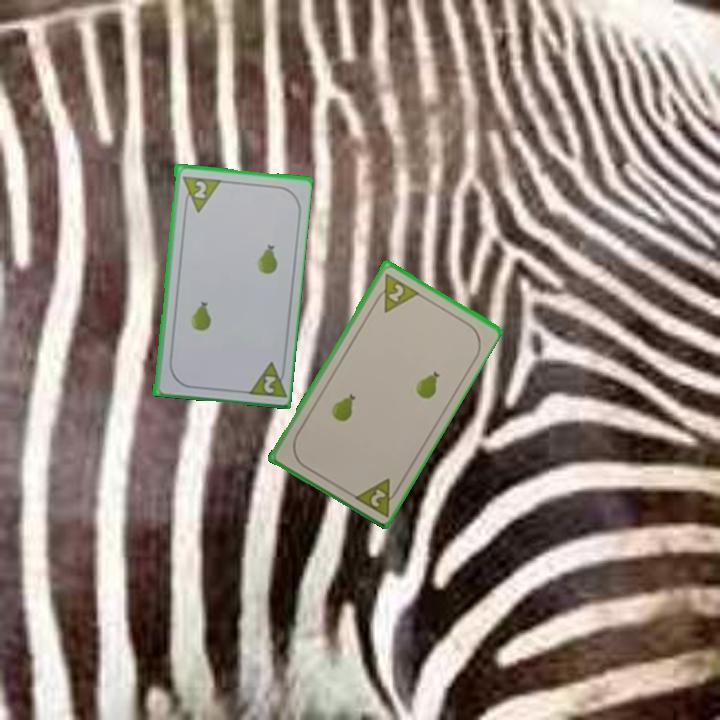2p: (350, 474, 404, 519), (369, 269, 421, 315), (242, 358, 288, 400), (178, 172, 222, 214)
